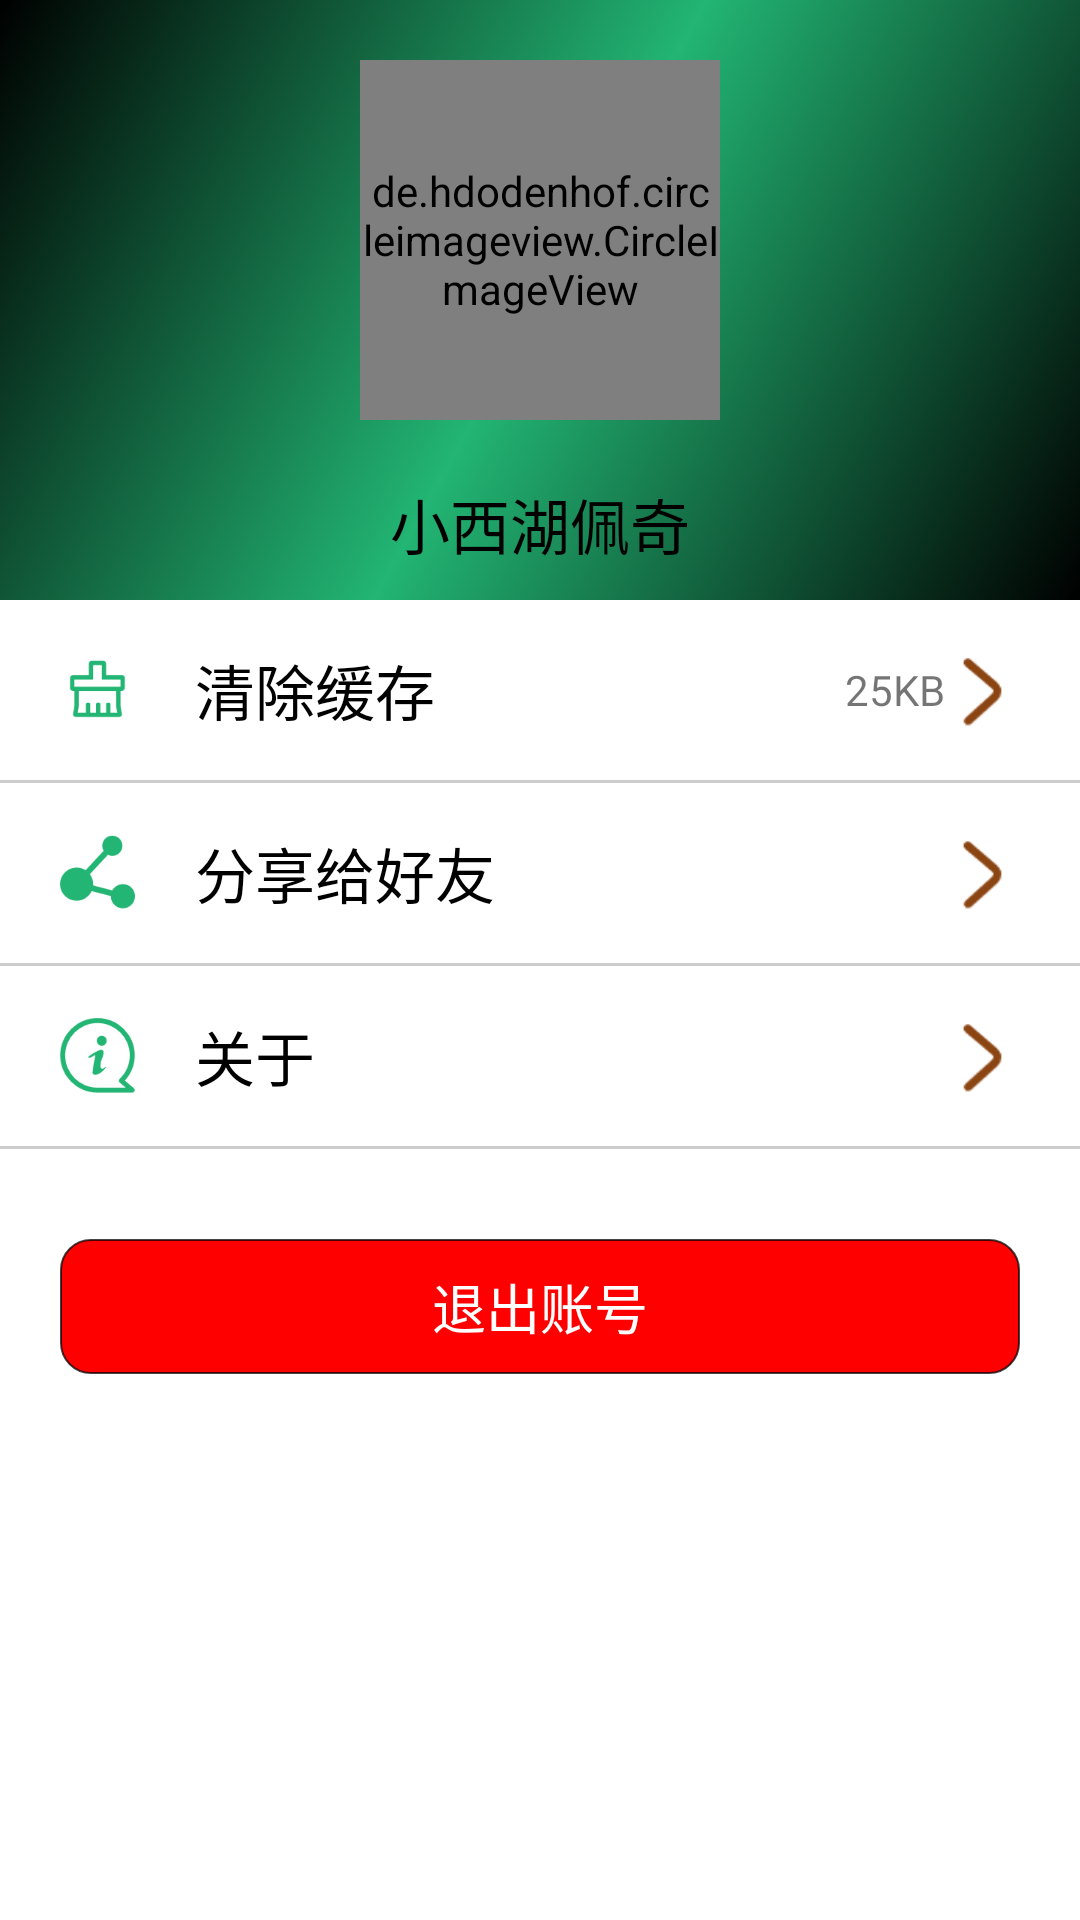

Point at icon controls on the screen. Image size 1080px x 1920px, points as (x=x, y=y).
about: (x=97, y=1055)
cache: (x=97, y=689)
share: (x=97, y=872)
